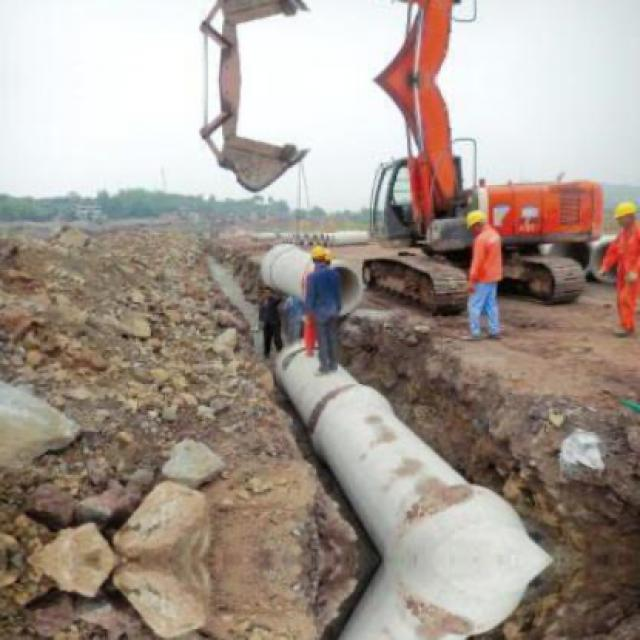helmet: (612, 194, 638, 227), (464, 206, 489, 238), (310, 242, 330, 270)
